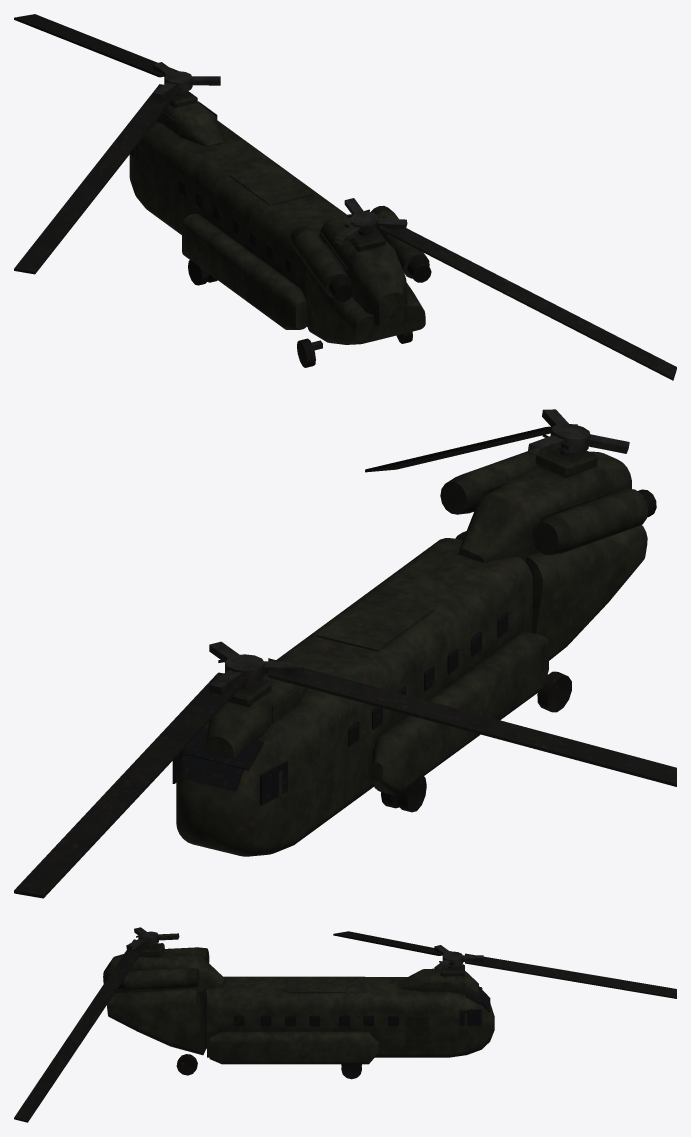
Rendered from tran-wreck.glb.
The picture shows the model from 3 angles, top to bottom: view 1: azimuth 30°, elevation 25°; view 2: azimuth 150°, elevation 25°; view 3: azimuth 270°, elevation 25°; orthographic projection. The views are drawn at different scales.
Visible parts, largest first — view 1: hull; view 2: hull; view 3: hull.
Part boxes in pixels (x1,y1,x2,y2): hull: (14,14,676,380); hull: (14,409,676,898); hull: (14,927,676,1122).
Size of the model in its own units: 15.18 by 5.61 by 27.06.
Materials: 1 (1 with a texture image).
